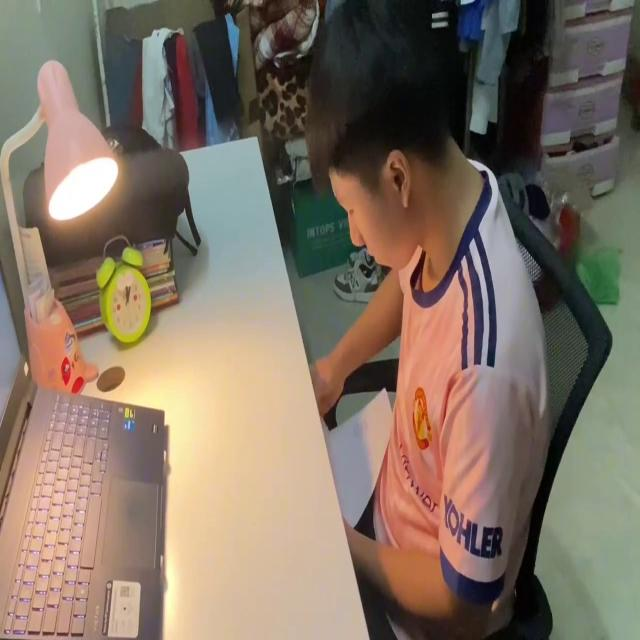book: (314, 384, 394, 529)
laptop: (0, 254, 167, 640)
student: (302, 0, 550, 632)
